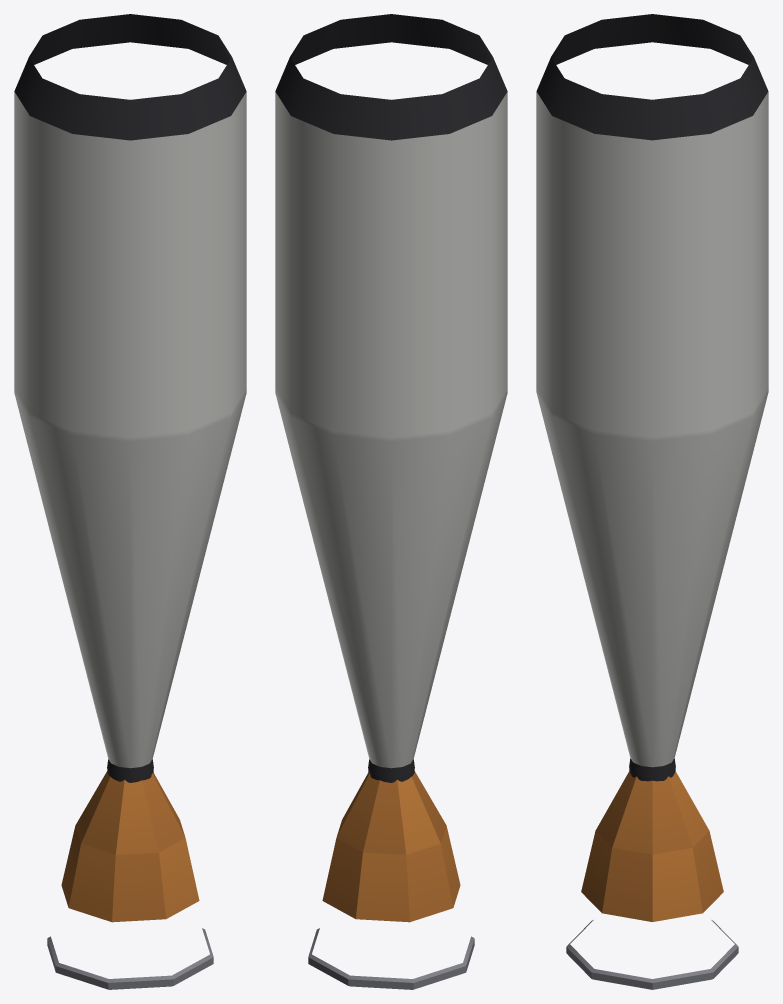
File: upper.lo.glb
3 views of the same model, side by side, from view 1: azimuth 30°, elevation 25°; view 2: azimuth 150°, elevation 25°; view 3: azimuth 270°, elevation 25° (orthographic).
Visible parts, largest first — view 1: upper.hull, upper.dark, upper.bell, upper.metal; view 2: upper.hull, upper.dark, upper.bell, upper.metal; view 3: upper.hull, upper.dark, upper.bell, upper.metal.
Boxes of the visible parts, box(x1,y1,x2,y2) form: upper.hull: box(14, 92, 246, 768); upper.dark: box(14, 14, 246, 782); upper.bell: box(61, 771, 199, 922); upper.metal: box(47, 928, 213, 989); upper.hull: box(275, 92, 507, 768); upper.dark: box(275, 14, 507, 782); upper.bell: box(322, 771, 460, 922); upper.metal: box(308, 928, 474, 989); upper.hull: box(536, 91, 768, 767); upper.dark: box(536, 14, 768, 781); upper.bell: box(581, 771, 723, 921); upper.metal: box(566, 920, 738, 989).
Bounding box in the file's own units: 3.66 × 15.63 × 3.66.
